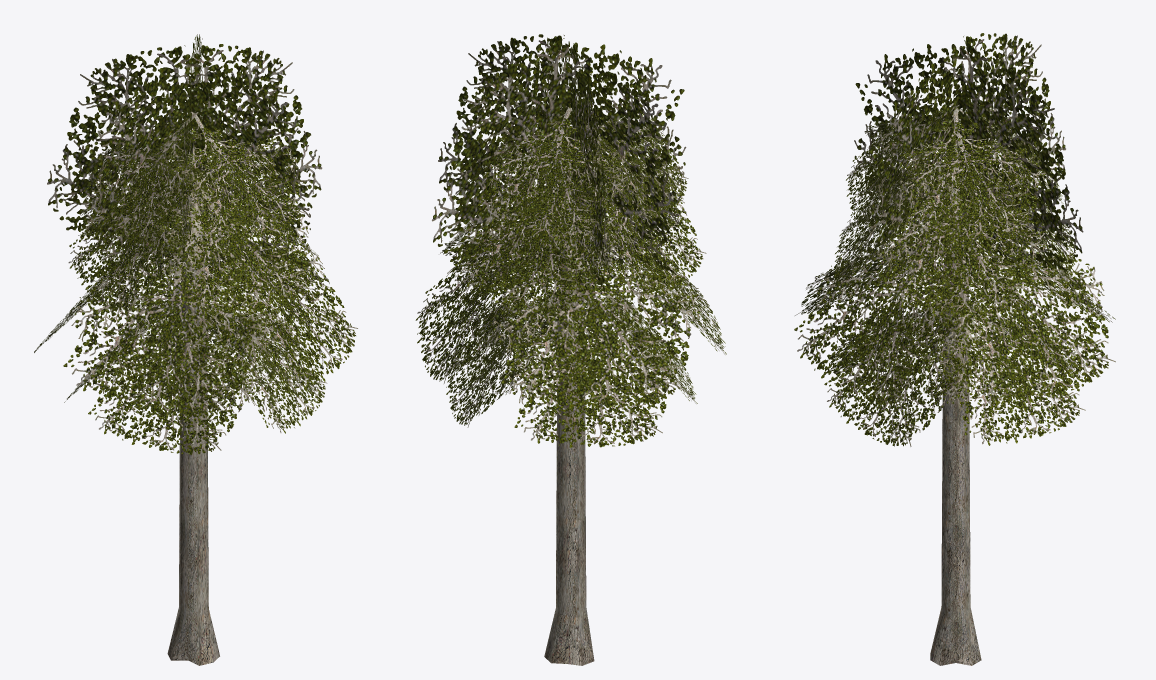
File: Sharp_Poplar02.gltf
3 renders of one model, left to right at view 1: azimuth 30°, elevation 25°; view 2: azimuth 150°, elevation 25°; view 3: azimuth 270°, elevation 25°, orthographic.
Visible parts, largest first — view 1: Top, Bfol, Cfol, Efol, Afol, Trunk; view 2: Top, Bfol, Cfol, Afol, Efol, Trunk; view 3: Bfol, Top, Cfol, Afol, Efol, Trunk.
Boxes of the visible parts, bbox=[...] form: Top: bbox=[47, 34, 322, 301]; Bfol: bbox=[34, 227, 357, 416]; Cfol: bbox=[68, 166, 319, 316]; Efol: bbox=[83, 111, 305, 244]; Afol: bbox=[64, 296, 327, 454]; Trunk: bbox=[167, 143, 219, 665]; Top: bbox=[432, 34, 686, 291]; Bfol: bbox=[415, 221, 726, 408]; Cfol: bbox=[440, 158, 706, 313]; Afol: bbox=[445, 293, 697, 447]; Efol: bbox=[456, 103, 688, 241]; Trunk: bbox=[544, 161, 594, 665]; Bfol: bbox=[794, 223, 1115, 406]; Top: bbox=[854, 33, 1083, 294]; Cfol: bbox=[834, 160, 1075, 315]; Afol: bbox=[824, 291, 1085, 446]; Efol: bbox=[846, 103, 1063, 242]; Trunk: bbox=[930, 147, 981, 665].
Bounding box in the file's own units: 13 × 23.74 × 13.
Materials: 2 (2 with a texture image).
